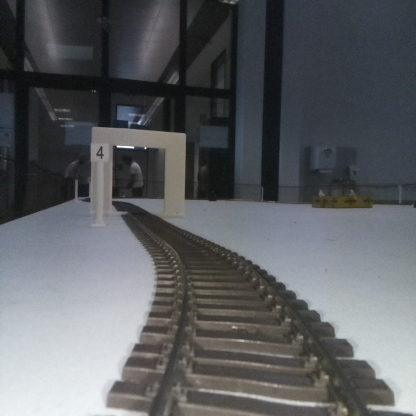white-info-4: (91, 144, 109, 226)
